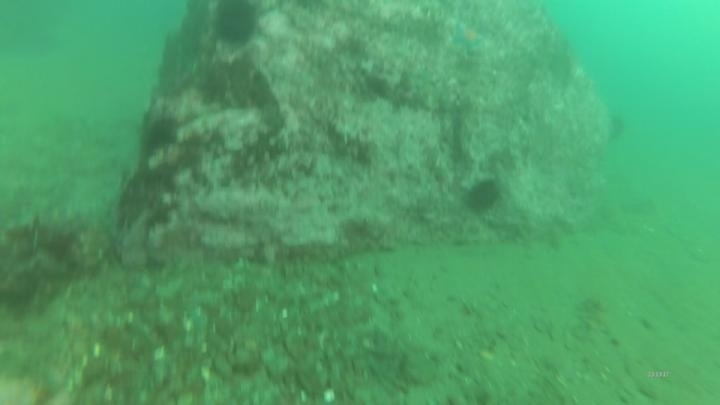echinus: (210, 1, 262, 50), (139, 112, 182, 156), (462, 176, 504, 216), (604, 111, 629, 145)
starfish: (448, 19, 491, 55)
